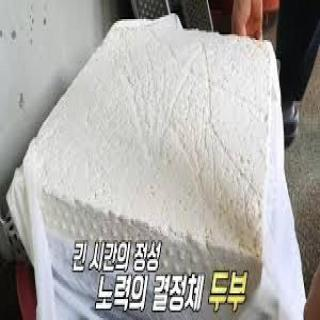Tahu: (5, 18, 301, 298)
